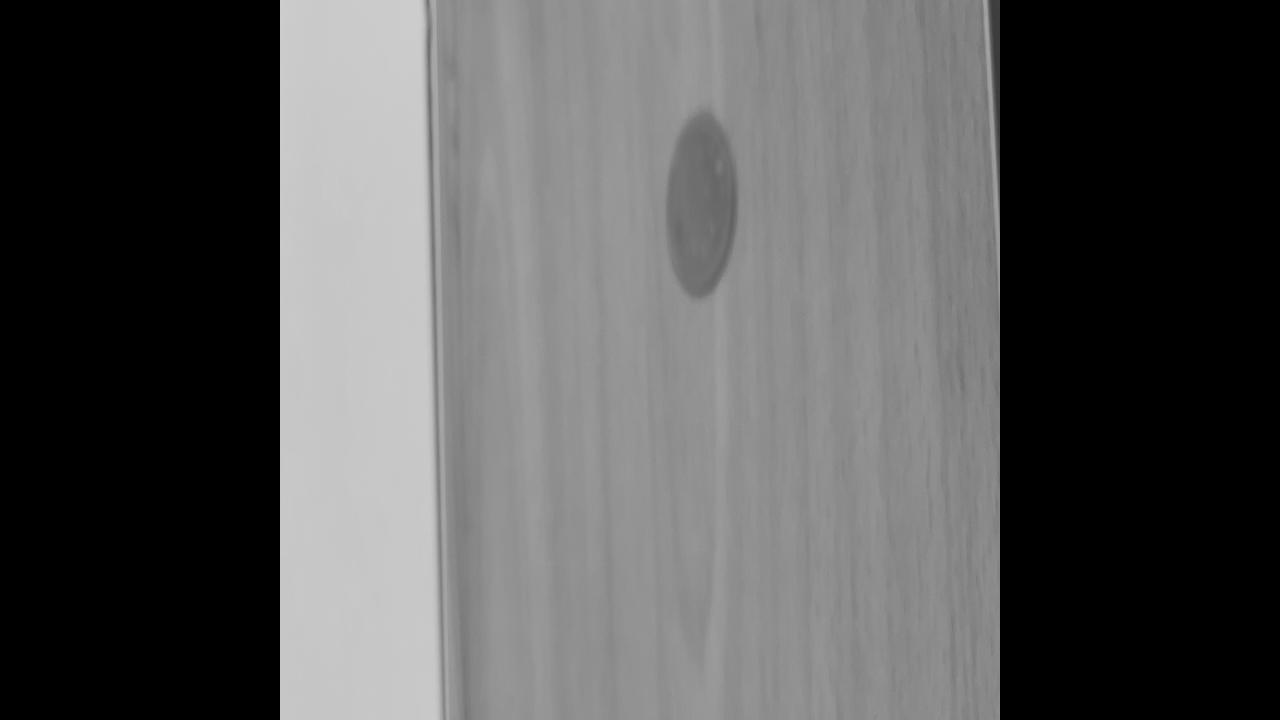coin: (664, 107, 736, 297)
